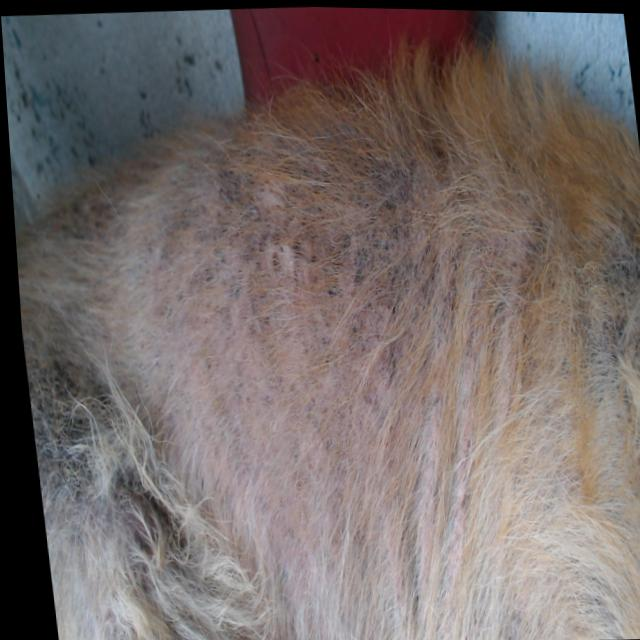demodicosis: (127, 157, 421, 463)
